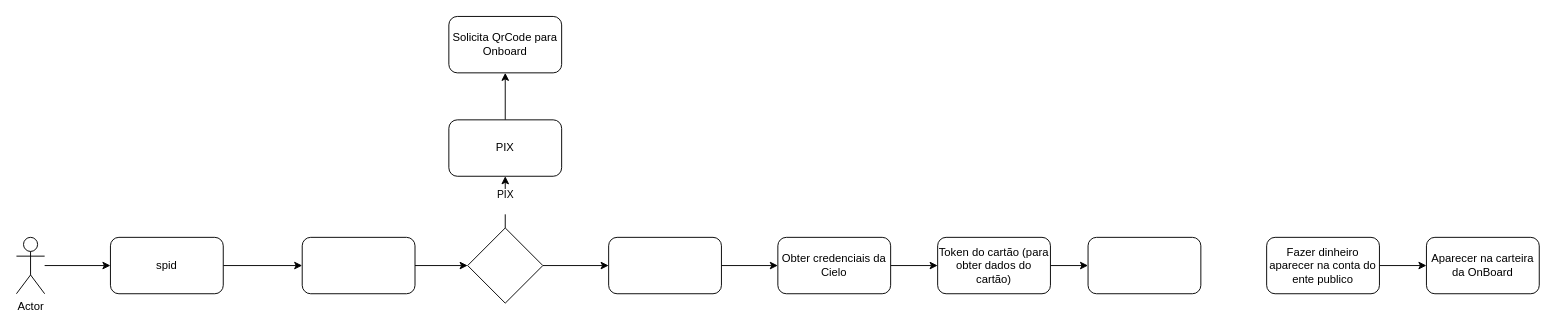
Image size: 1556x330. Some labels were removed from this diagram. Each missing label, with the centre of its shape:
"Debito" goes at point (664, 265).
"Debito, credito ou pix" goes at point (505, 265).
"Realizar pagamento, utilizando API da Cielo" goes at point (1144, 265).
"transporte publico" goes at point (358, 265).
